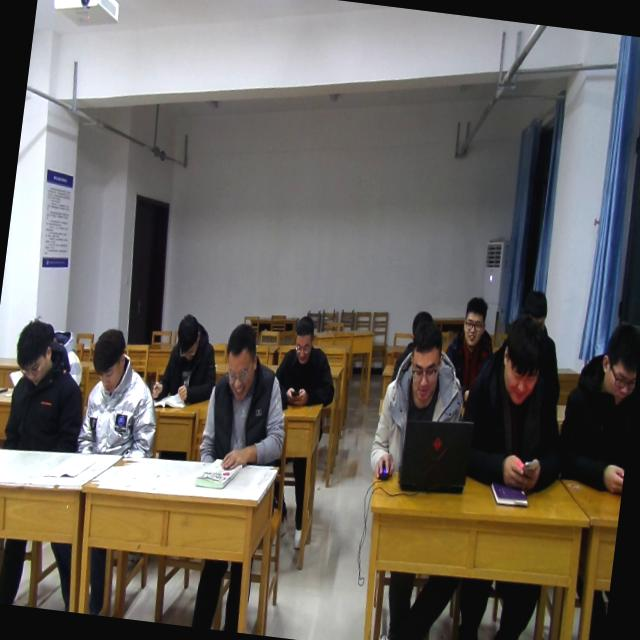down: (495, 304, 551, 412), (593, 313, 640, 409), (400, 320, 447, 410), (215, 320, 263, 404), (8, 311, 57, 389), (84, 320, 134, 392), (286, 308, 318, 368), (170, 304, 203, 360)
lookup: (454, 291, 492, 354)
sit: (454, 308, 576, 498), (367, 312, 474, 492), (196, 318, 300, 478), (553, 316, 640, 499), (0, 315, 93, 461), (74, 324, 168, 464), (438, 292, 501, 418), (271, 312, 345, 410), (150, 308, 222, 408)
